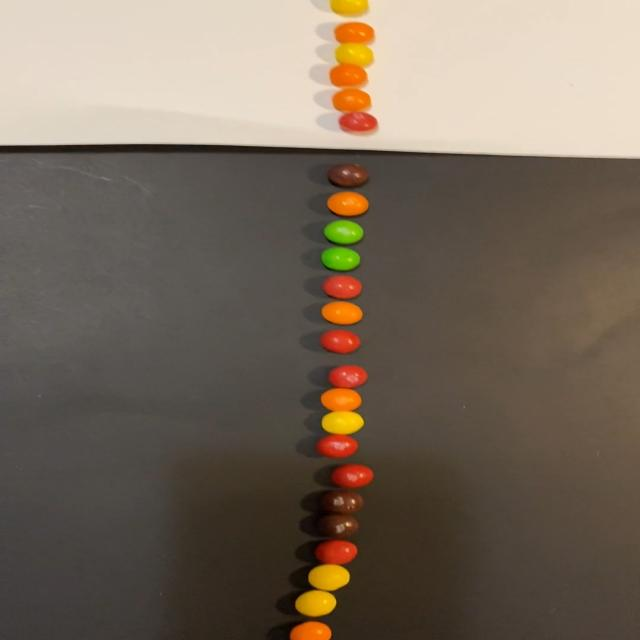smartie: (294, 591, 336, 618), (308, 563, 350, 590), (315, 539, 358, 565), (326, 192, 368, 217), (326, 163, 368, 187), (323, 490, 365, 514), (319, 435, 361, 459), (335, 43, 375, 68), (320, 245, 360, 270), (330, 465, 373, 488), (322, 413, 365, 436), (325, 220, 366, 244), (320, 301, 362, 324), (319, 514, 359, 538), (328, 365, 369, 388), (327, 63, 366, 87), (322, 273, 361, 297), (322, 389, 362, 412), (334, 88, 373, 111), (320, 331, 359, 354), (333, 21, 374, 42), (339, 111, 378, 132), (289, 623, 330, 640), (329, 0, 367, 14)
